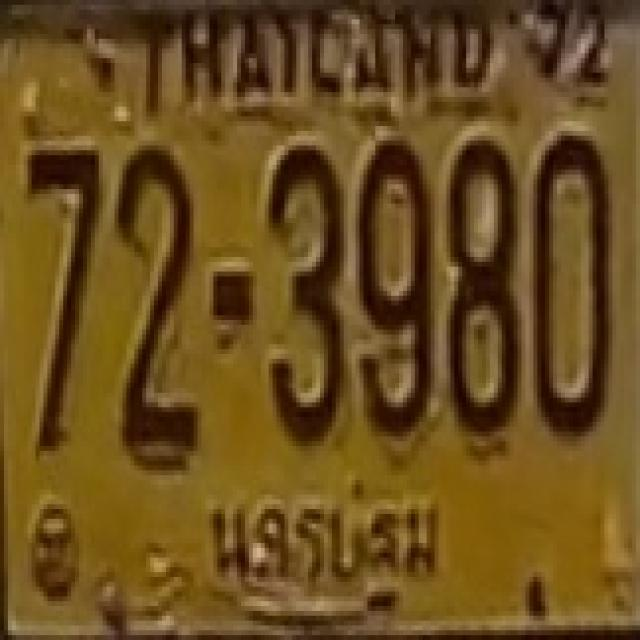0: (530, 133, 608, 429)
2: (112, 139, 206, 454)
3: (264, 140, 340, 441)
7: (22, 146, 99, 456)
8: (447, 136, 518, 432)
9: (355, 137, 433, 432)
NPT: (194, 476, 450, 616)
